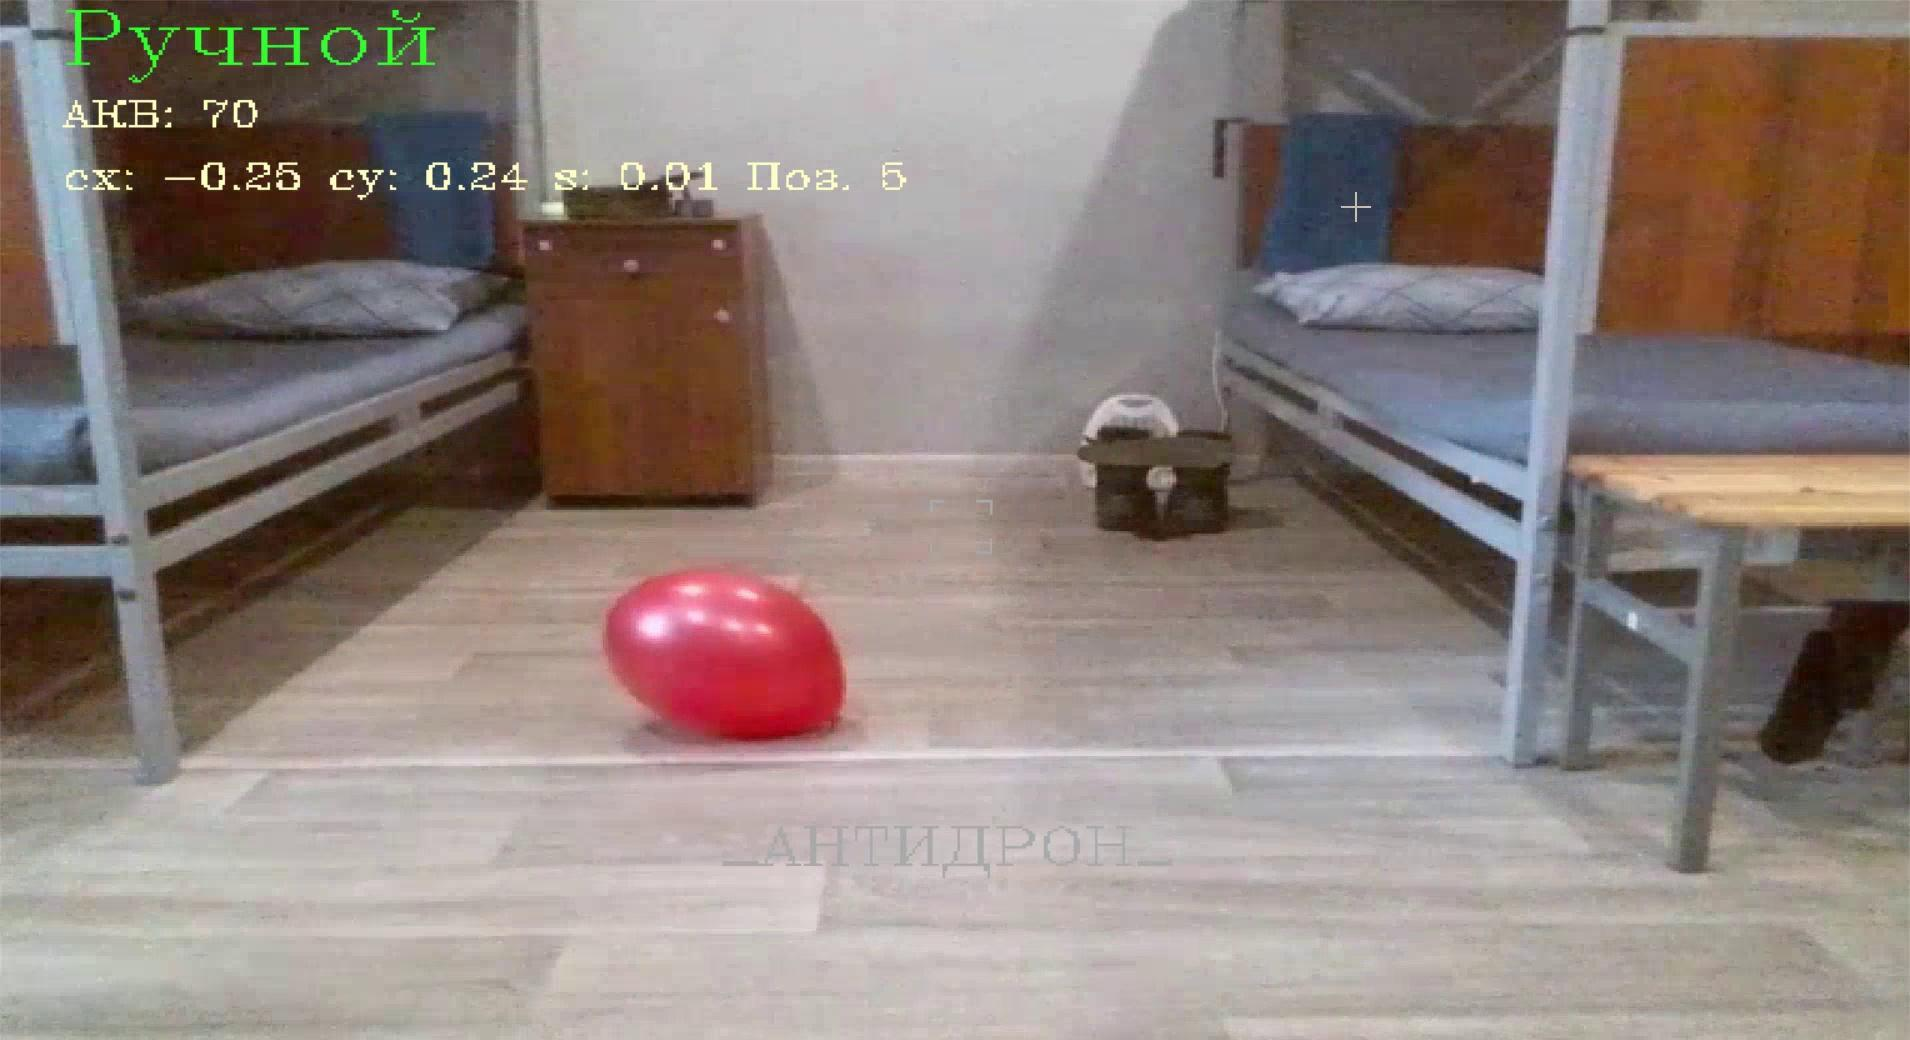red: (595, 562, 850, 748)
